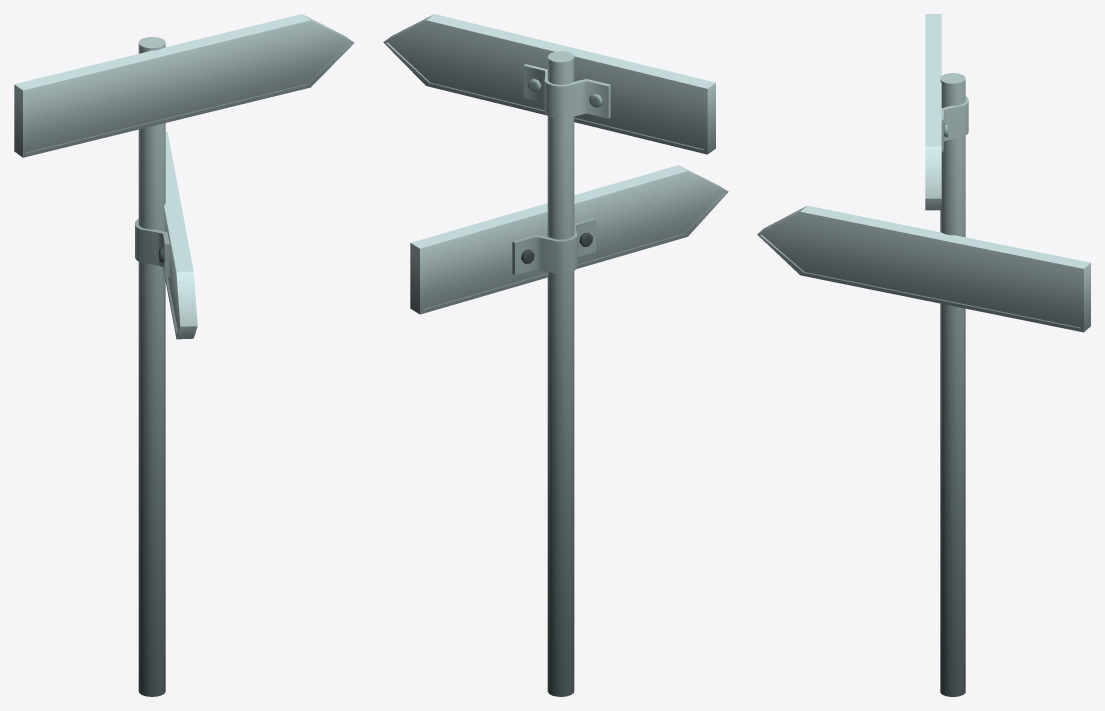
File: panneau direction double wip.fbx
The picture shows the model from 3 angles, left to right: view 1: azimuth 30°, elevation 25°; view 2: azimuth 150°, elevation 25°; view 3: azimuth 270°, elevation 25°; orthographic projection. The views are drawn at different scales.
Parts seen in each view (by area): view 1: Panneau_Tige.005; view 2: Panneau_Tige.005; view 3: Panneau_Tige.005.
Part boxes in pixels (x1,y1,x2,y2): Panneau_Tige.005: [14, 14, 354, 696]; Panneau_Tige.005: [383, 14, 728, 696]; Panneau_Tige.005: [757, 14, 1090, 696].
Size of the model in its own units: 546 by 1020 by 503.
